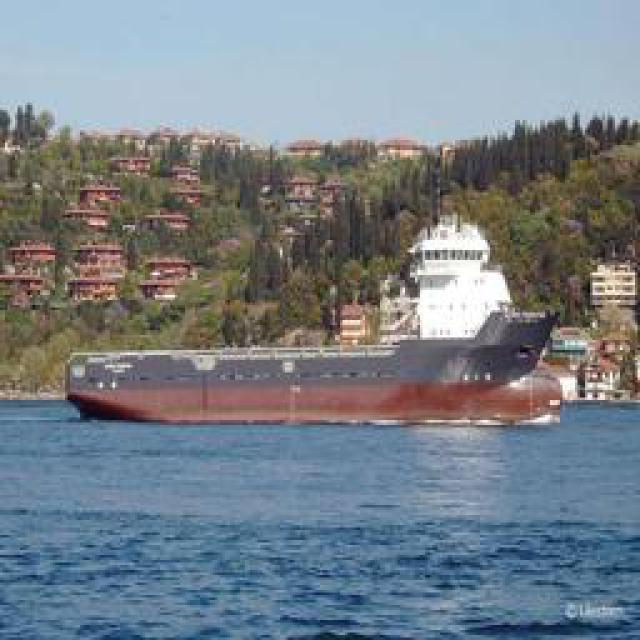Ship: (66, 342, 554, 430)
